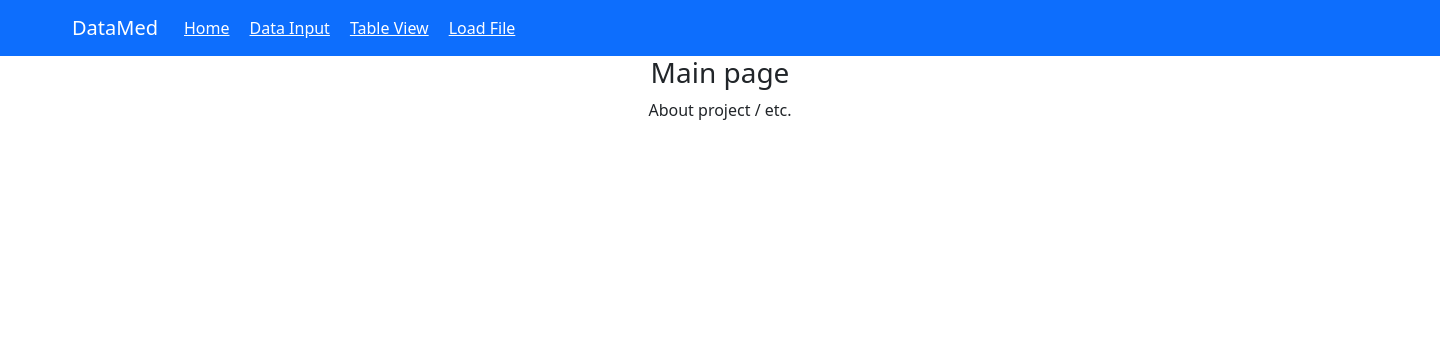
Test case: Nav to Data Input page
# clic nav link to Data Input page
Click the link "Data Input" at (290, 28), box [250,16,330,40]
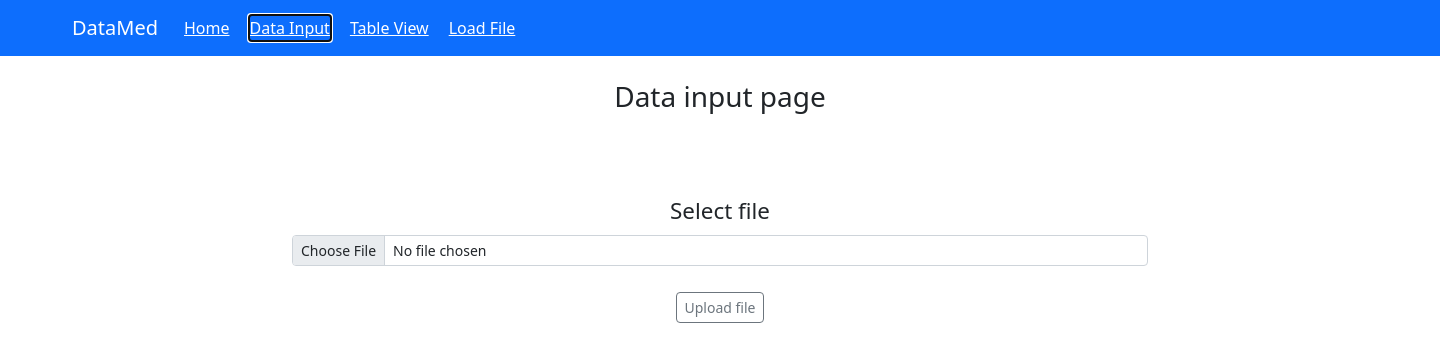
expect the button "Upload file" is shown: met, box [676,292,764,323]
